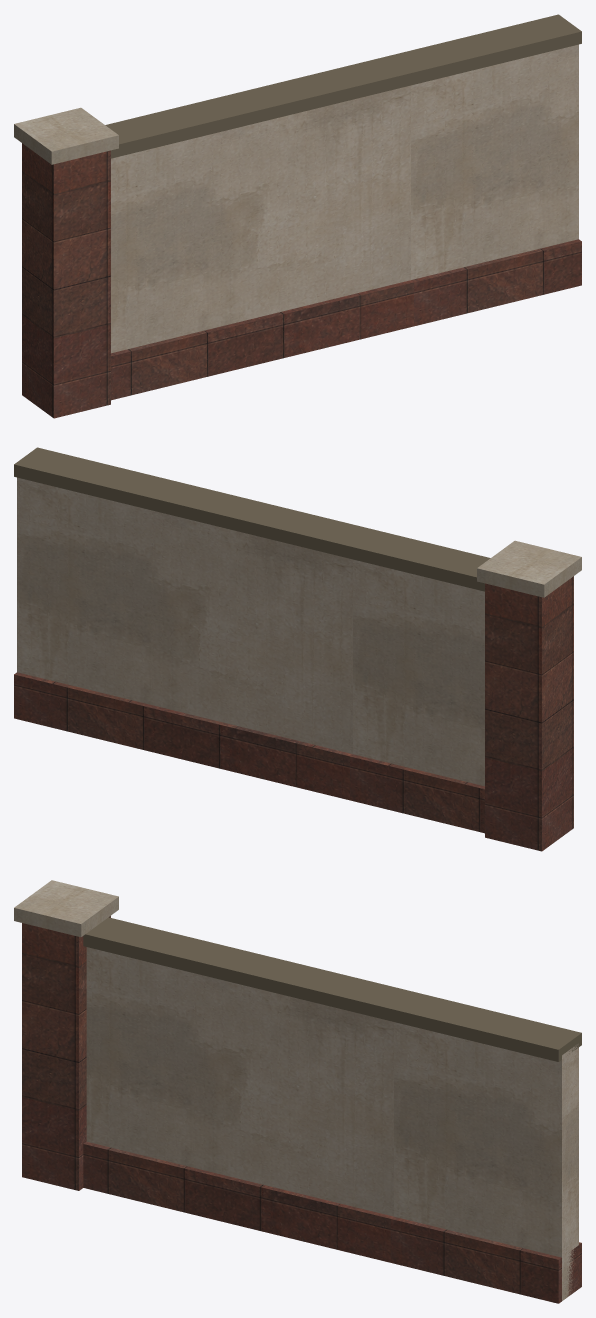
File: privacy_wall_6m.glb
The picture shows the model from 3 angles, top to bottom: view 1: azimuth 30°, elevation 25°; view 2: azimuth 150°, elevation 25°; view 3: azimuth 330°, elevation 25°; orthographic projection.
Visible parts, largest first — view 1: privacy_wall_6m; view 2: privacy_wall_6m; view 3: privacy_wall_6m.
Part boxes in pixels (bbox=[...]): privacy_wall_6m: bbox=[14, 14, 581, 418]; privacy_wall_6m: bbox=[14, 447, 581, 851]; privacy_wall_6m: bbox=[14, 880, 581, 1303].
Size of the model in its own units: 6.4 by 3.08 by 0.78.
Materials: 3 (2 with a texture image).
